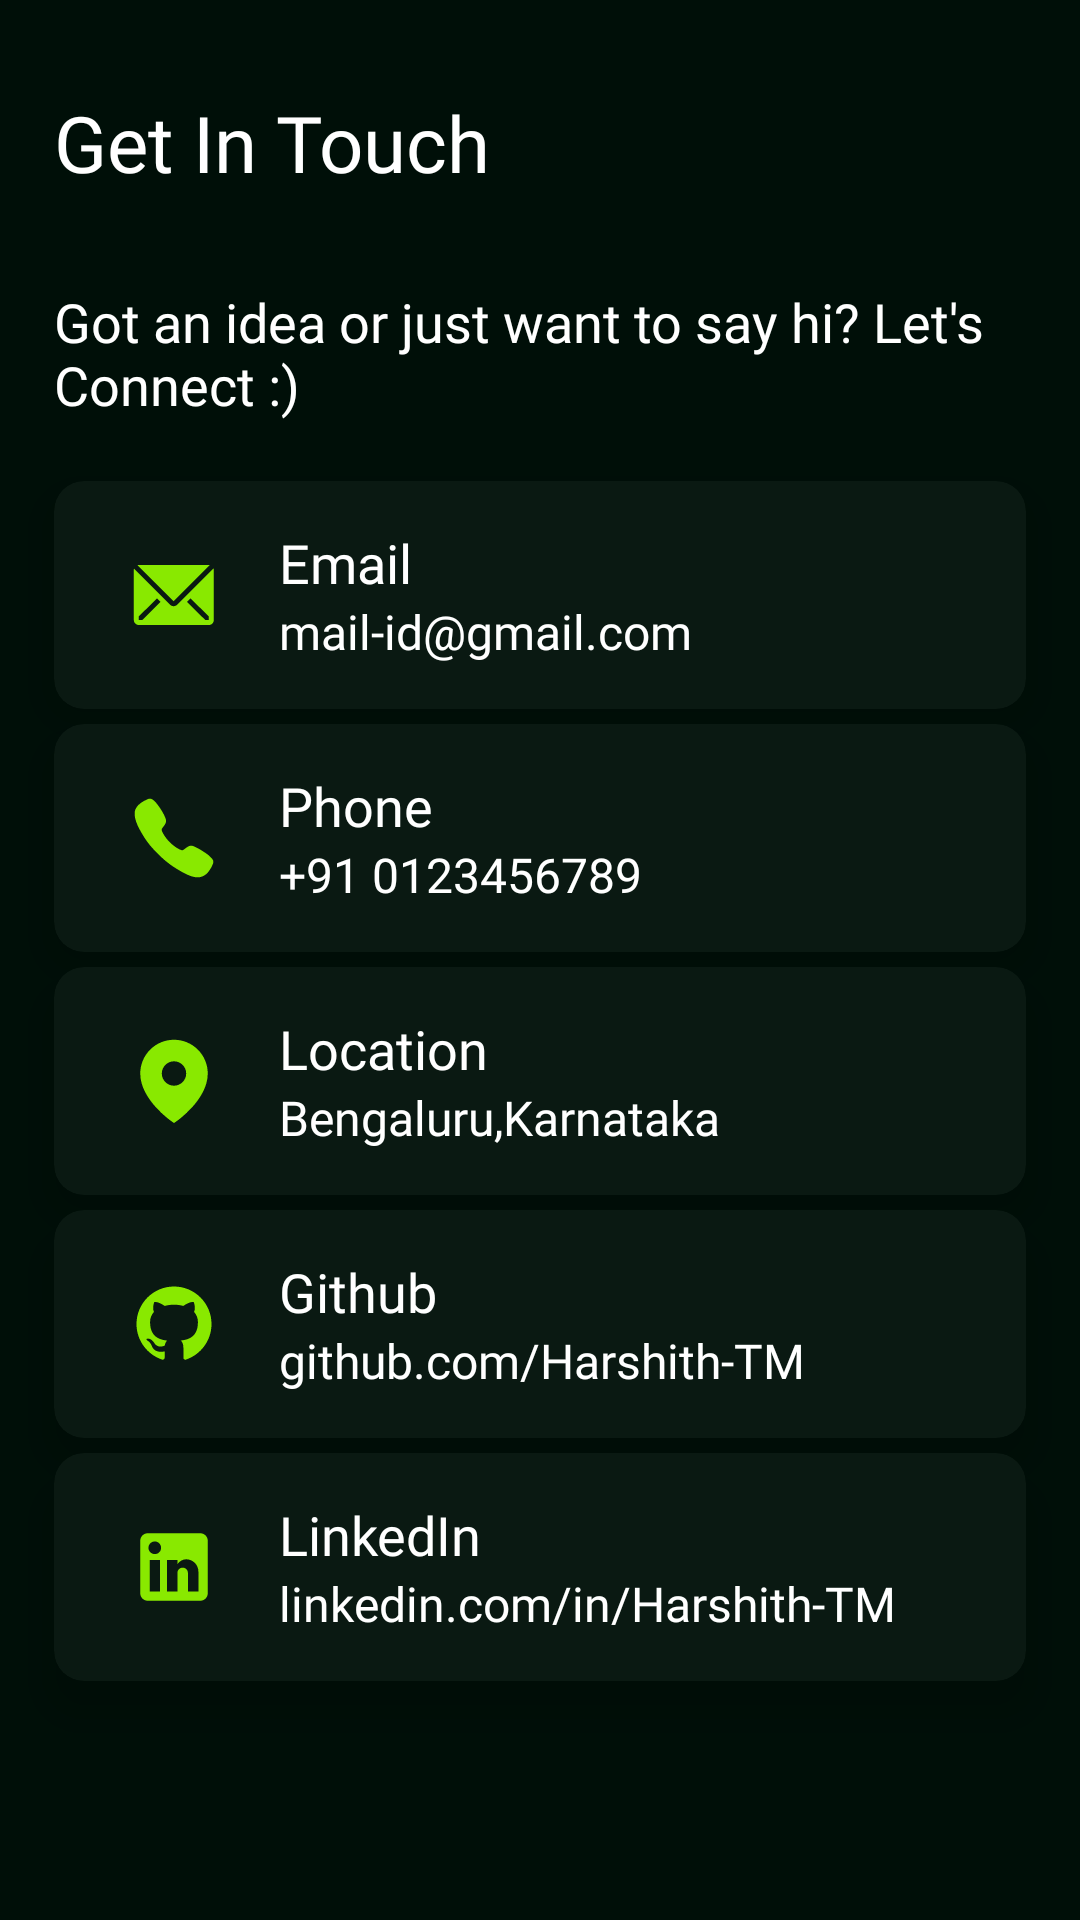

Icons on this 1080 × 1920 Android screen, each with its box as (x1, y1, x2, y2):
call: (134, 798, 214, 878)
